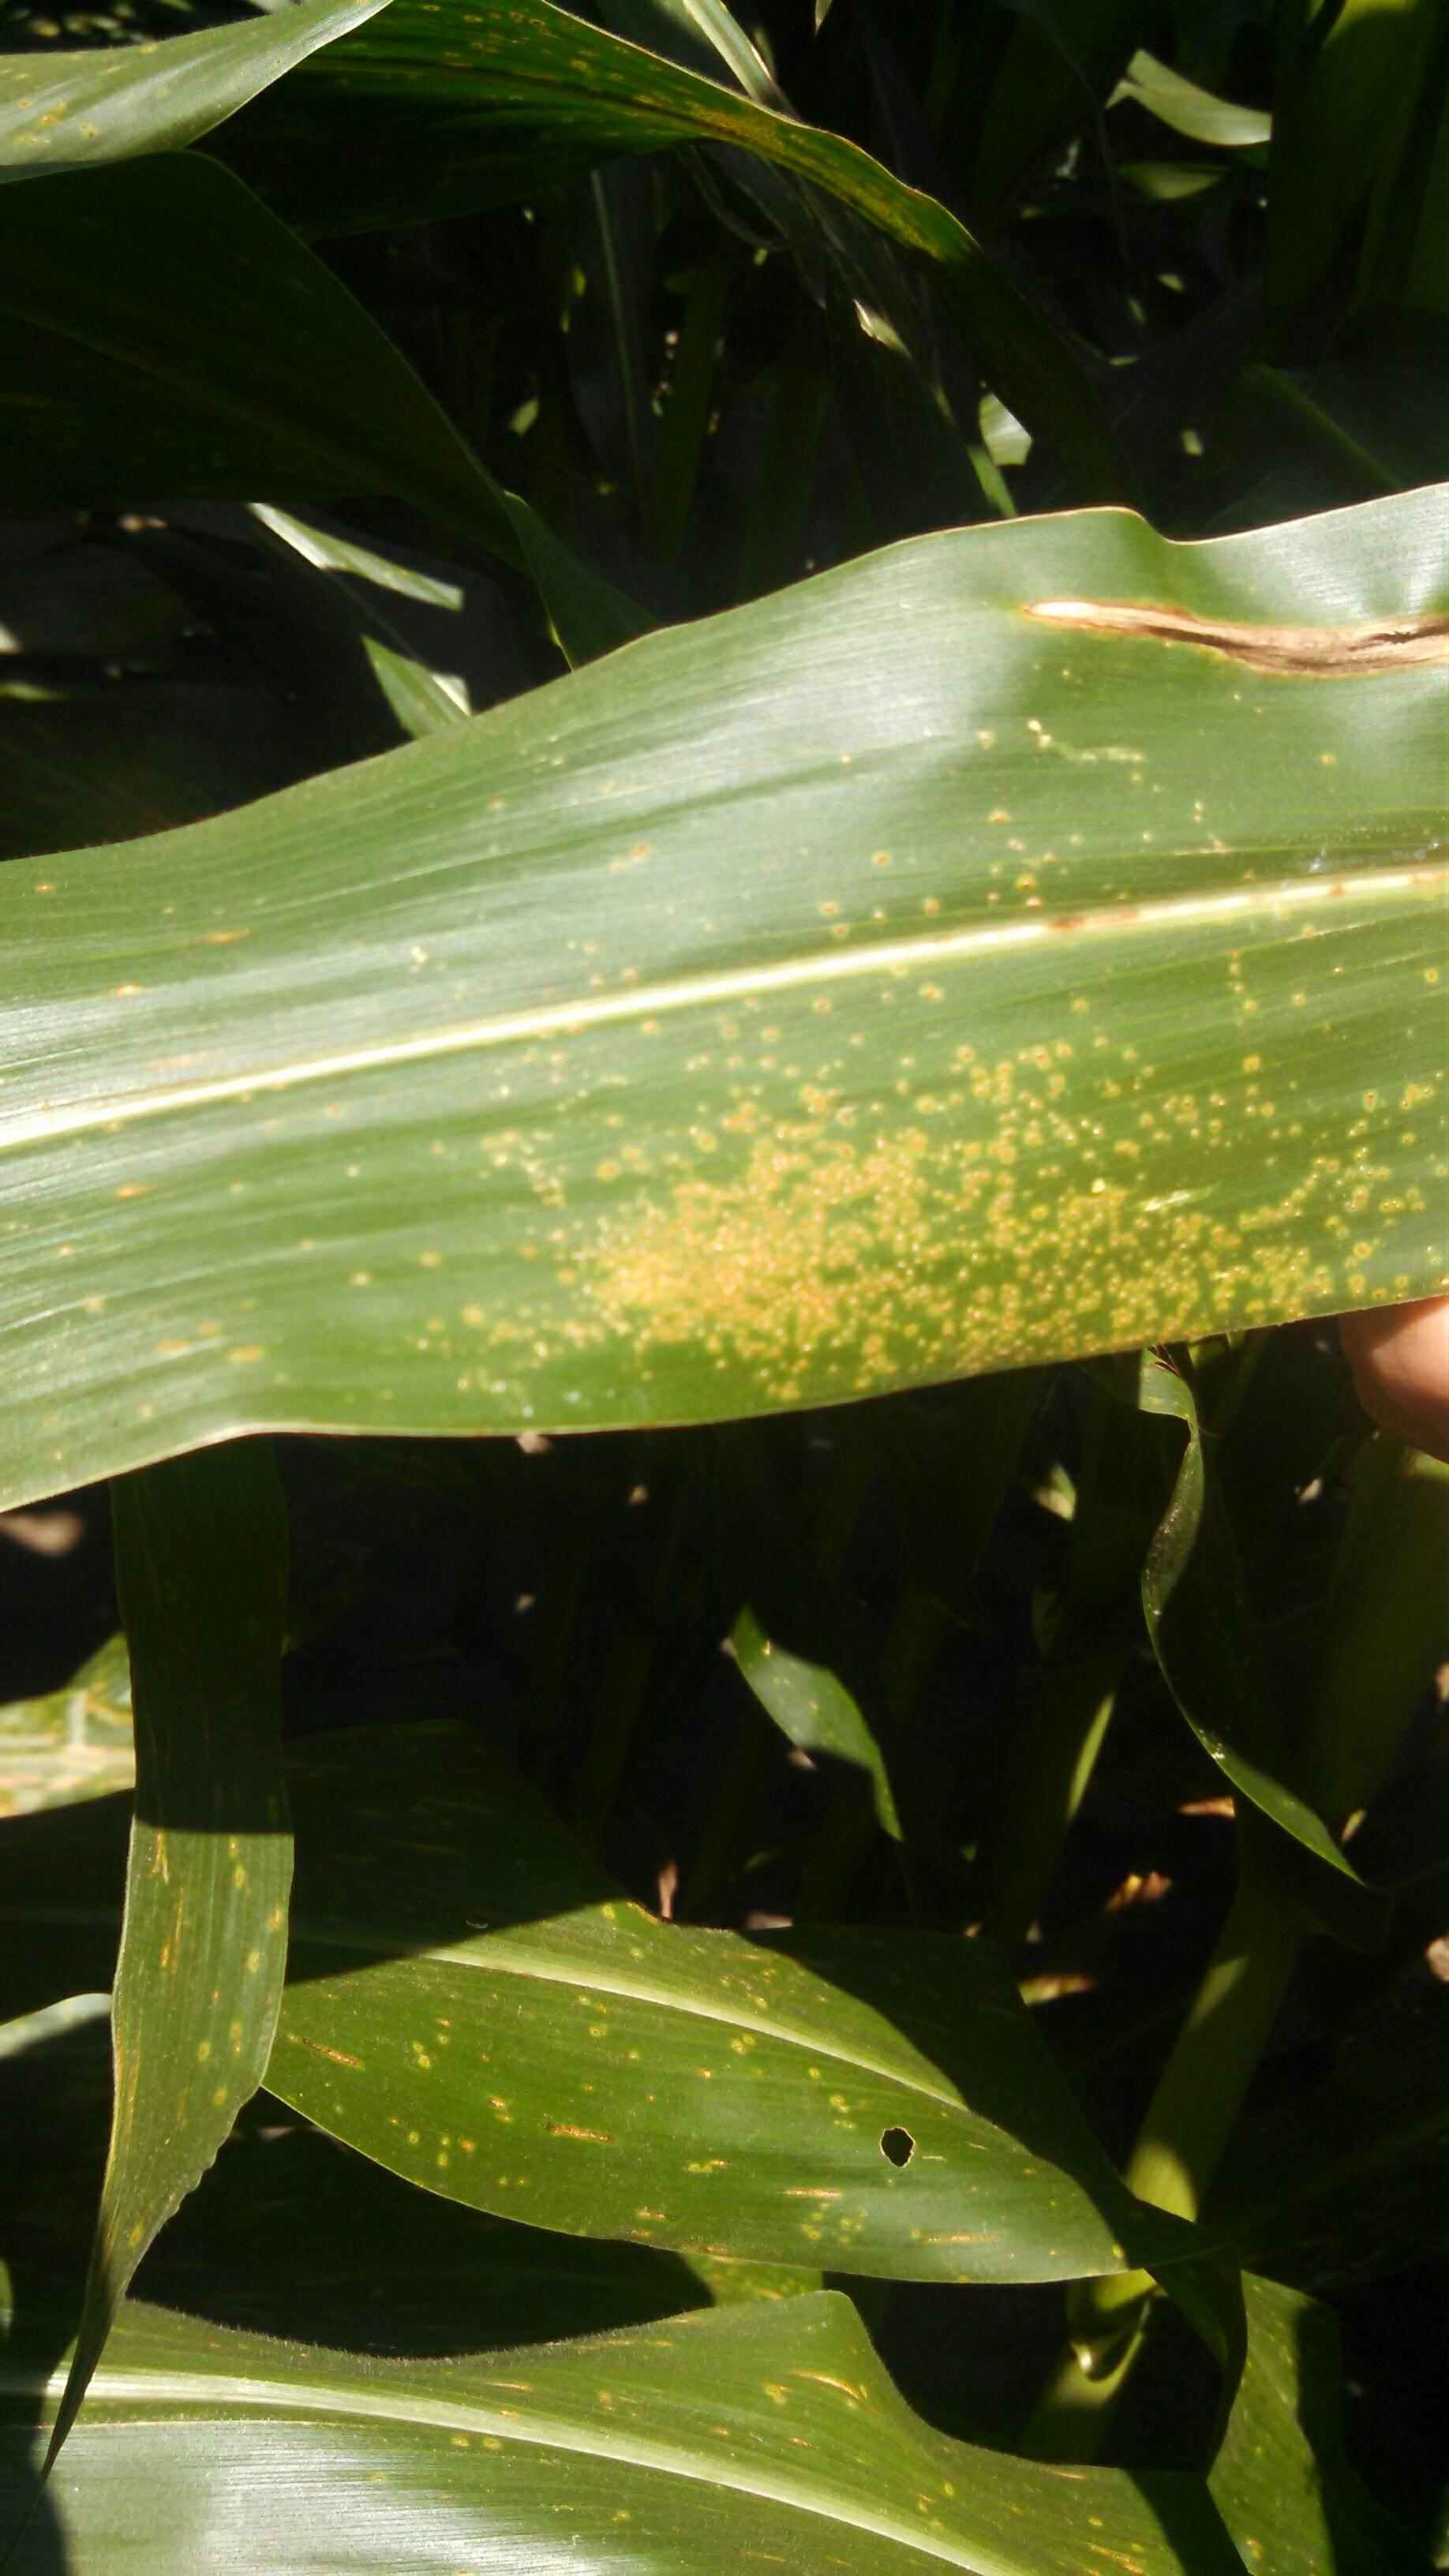Corn rust leaf: (14, 479, 1449, 1539)
